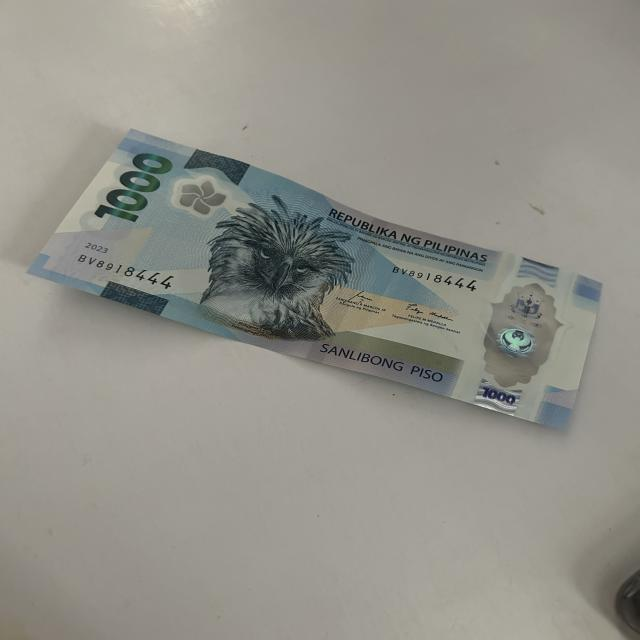clear_window: (448, 255, 579, 416)
eagle: (194, 190, 357, 350)
sampaguita: (158, 171, 244, 221)
